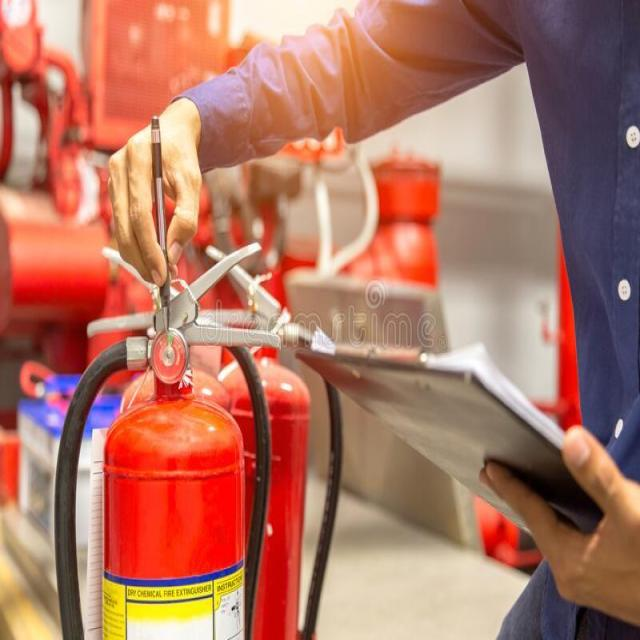fire_extinguisher: (45, 236, 282, 639), (202, 230, 344, 639)
